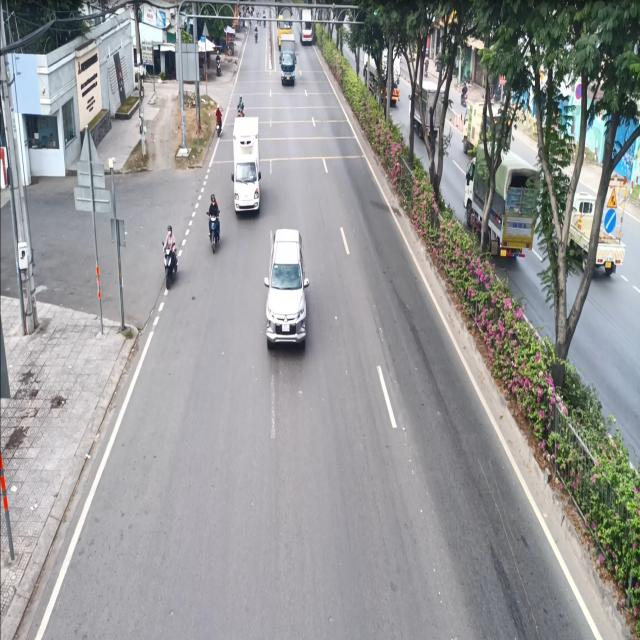car: (266, 218, 308, 356)
motor: (161, 219, 180, 290), (206, 190, 224, 256), (214, 104, 225, 137)
truck: (233, 115, 262, 220), (278, 31, 300, 88)
